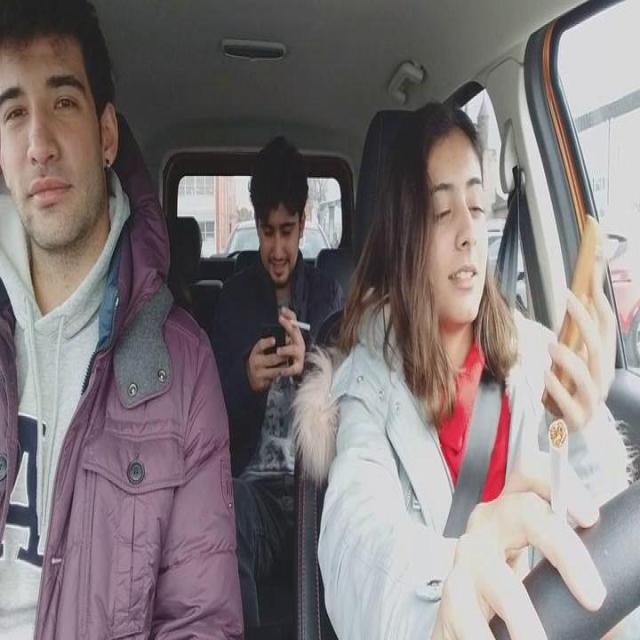phone: (540, 215, 612, 418)
